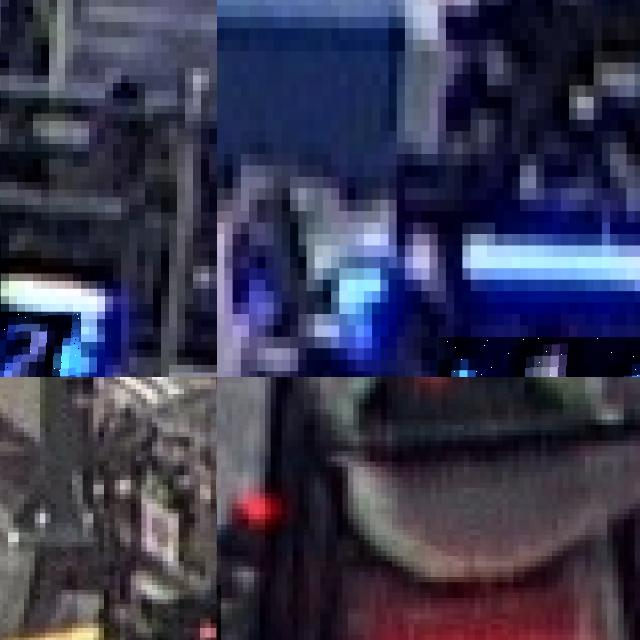B1: (437, 337, 640, 377)
B2: (0, 311, 81, 377)
